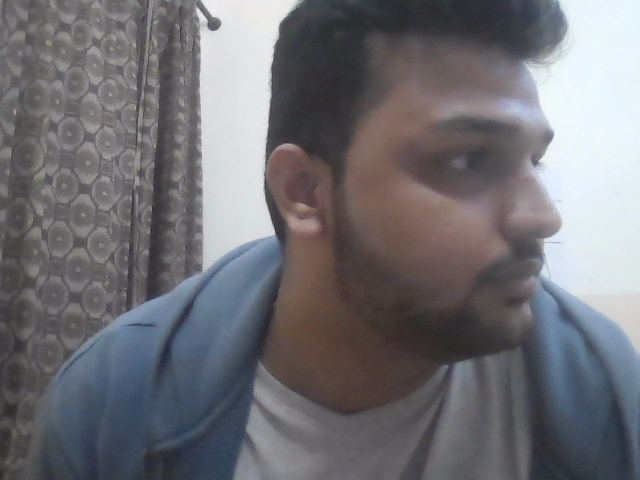awake: (240, 4, 624, 378)
